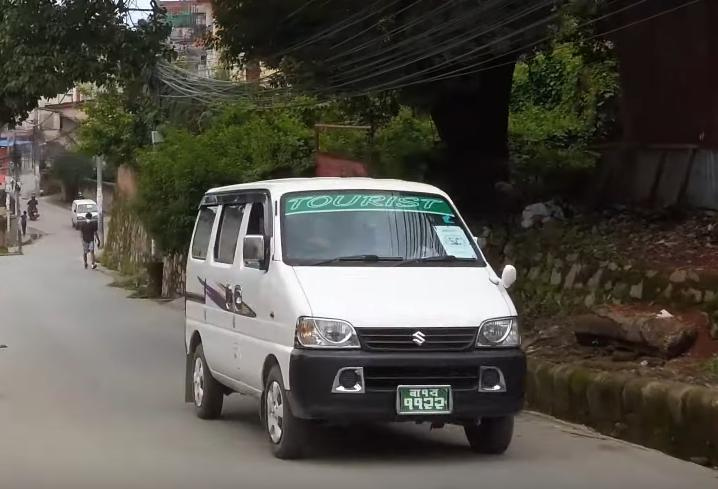van: (164, 167, 536, 469), (69, 195, 104, 229)
